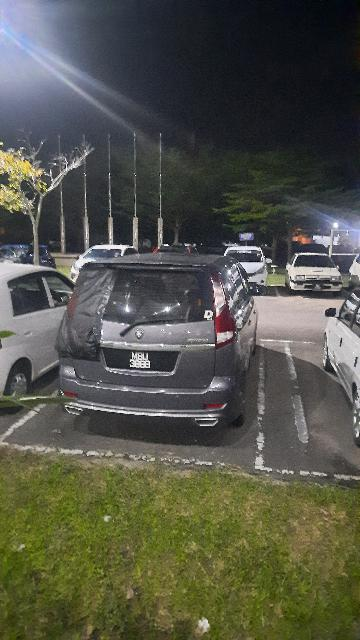License_Plate: (98, 345, 183, 376)
car: (63, 251, 262, 432), (1, 254, 75, 405), (317, 281, 360, 449), (288, 253, 345, 293), (222, 247, 272, 292)
